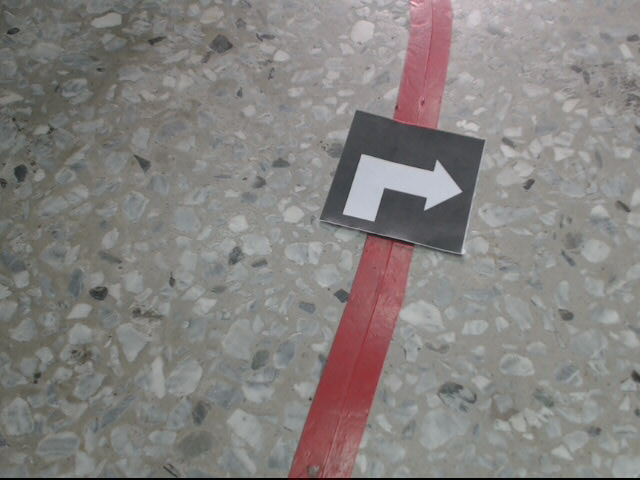right: (319, 112, 484, 257)
